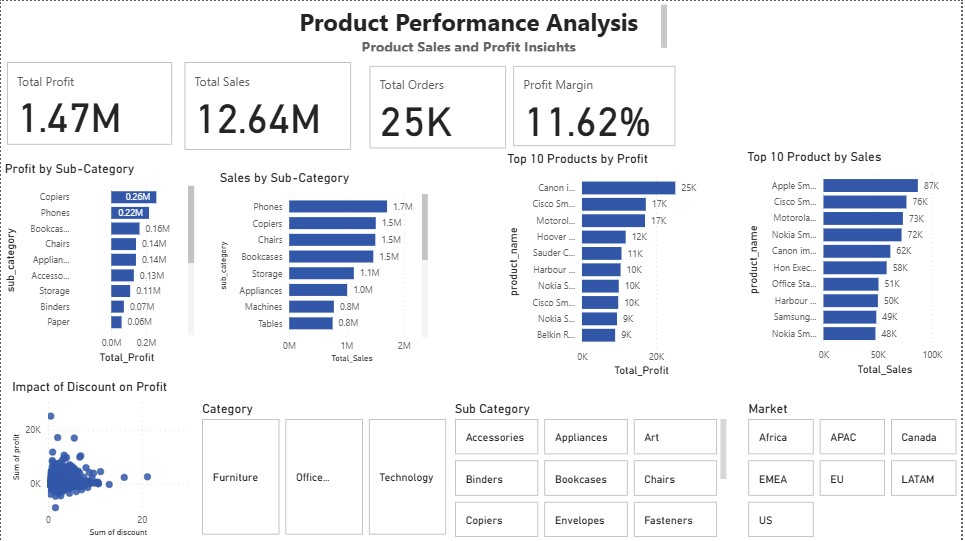

The page's visual inventory and layout, read from the dashboard file:
{"tool":"powerbi","page":{"name":"Product Performance Analysis","canvas":[1280,720],"ordinal":1},"visuals":[{"type":"cardVisual","fields":{"Data":["SuperStore_Orders.Total_Profit"]},"box":[4,76.5,230,120],"z":0},{"type":"cardVisual","fields":{"Data":["SuperStore_Orders.Total_Sales"]},"box":[240.7,76.5,232.5,127.5],"z":1000},{"type":"cardVisual","fields":{"Data":["SuperStore_Orders.Total_Orders"]},"box":[486.2,81.2,192.5,120],"z":2000},{"type":"cardVisual","fields":{"Data":["SuperStore_Orders.Profit_Margin"]},"box":[679,81.5,226.2,117.5],"z":3000},{"type":"clusteredBarChart","title":"Top 10 Product by Sales","fields":{"Category":["SuperStore_Orders.product_name"],"Y":["SuperStore_Orders.Total_Sales"]},"box":[990,196.2,290,307.5],"z":4000},{"type":"clusteredBarChart","title":"Sales by Sub-Category","fields":{"Category":["SuperStore_Orders.sub_category"],"Y":["SuperStore_Orders.Total_Sales"]},"box":[286.2,225,287.5,262.5],"z":5000},{"type":"clusteredBarChart","title":"Profit by Sub-Category","fields":{"Category":["SuperStore_Orders.sub_category"],"Y":["SuperStore_Orders.Total_Profit"]},"box":[0,212.5,262.5,275],"z":6000},{"type":"scatterChart","title":"Impact of Discount on Profit ","fields":{"X":["Sum(SuperStore_Orders.discount)"],"Y":["Sum(SuperStore_Orders.profit)"],"Category":["SuperStore_Orders.product_name"]},"box":[10,503.8,252.5,216.2],"z":7000},{"type":"clusteredBarChart","title":"Top 10 Products by Profit ","fields":{"Category":["SuperStore_Orders.product_name"],"Y":["SuperStore_Orders.Total_Profit"]},"box":[670,200,278.8,306.2],"z":8000},{"type":"advancedSlicerVisual","title":"Category","fields":{"Values":["SuperStore_Orders.category"]},"box":[262.5,532.5,337.5,183.8],"z":9000},{"type":"advancedSlicerVisual","title":"Sub Category","fields":{"Values":["SuperStore_Orders.sub_category"]},"box":[600,532.5,372.5,187.5],"z":10000},{"type":"advancedSlicerVisual","title":"Market","fields":{"Values":["SuperStore_Orders.market"]},"box":[991.2,532.5,288.8,187.5],"z":11000},{"type":"textbox","box":[361.2,0,531.2,72.5],"z":12000}]}

Visuals, with their boxes in screenshot pixels (x1, y1, x2, y2), scaled from the page's 1280x720 canvas onto the 965x541 screenshot:
cardVisual - SuperStore_Orders.Total_Profit: (x1=3, y1=57, x2=176, y2=148)
cardVisual - SuperStore_Orders.Total_Sales: (x1=181, y1=57, x2=357, y2=153)
cardVisual - SuperStore_Orders.Total_Orders: (x1=367, y1=61, x2=512, y2=151)
cardVisual - SuperStore_Orders.Profit_Margin: (x1=512, y1=61, x2=682, y2=150)
"Top 10 Product by Sales" clusteredBarChart: (x1=746, y1=147, x2=964, y2=378)
"Sales by Sub-Category" clusteredBarChart: (x1=216, y1=169, x2=433, y2=366)
"Profit by Sub-Category" clusteredBarChart: (x1=0, y1=160, x2=198, y2=366)
"Impact of Discount on Profit " scatterChart: (x1=8, y1=379, x2=198, y2=540)
"Top 10 Products by Profit " clusteredBarChart: (x1=505, y1=150, x2=715, y2=380)
"Category" advancedSlicerVisual: (x1=198, y1=400, x2=452, y2=538)
"Sub Category" advancedSlicerVisual: (x1=452, y1=400, x2=733, y2=540)
"Market" advancedSlicerVisual: (x1=747, y1=400, x2=964, y2=540)
textbox: (x1=272, y1=0, x2=673, y2=54)
